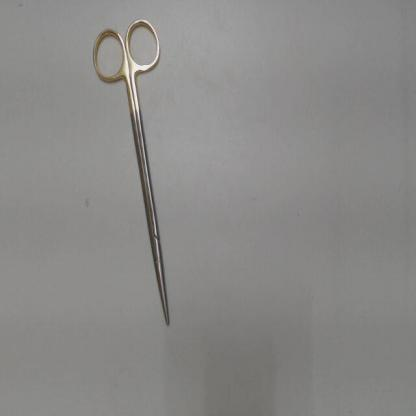7 Metzenbaum Scissors: (87, 13, 174, 333)
